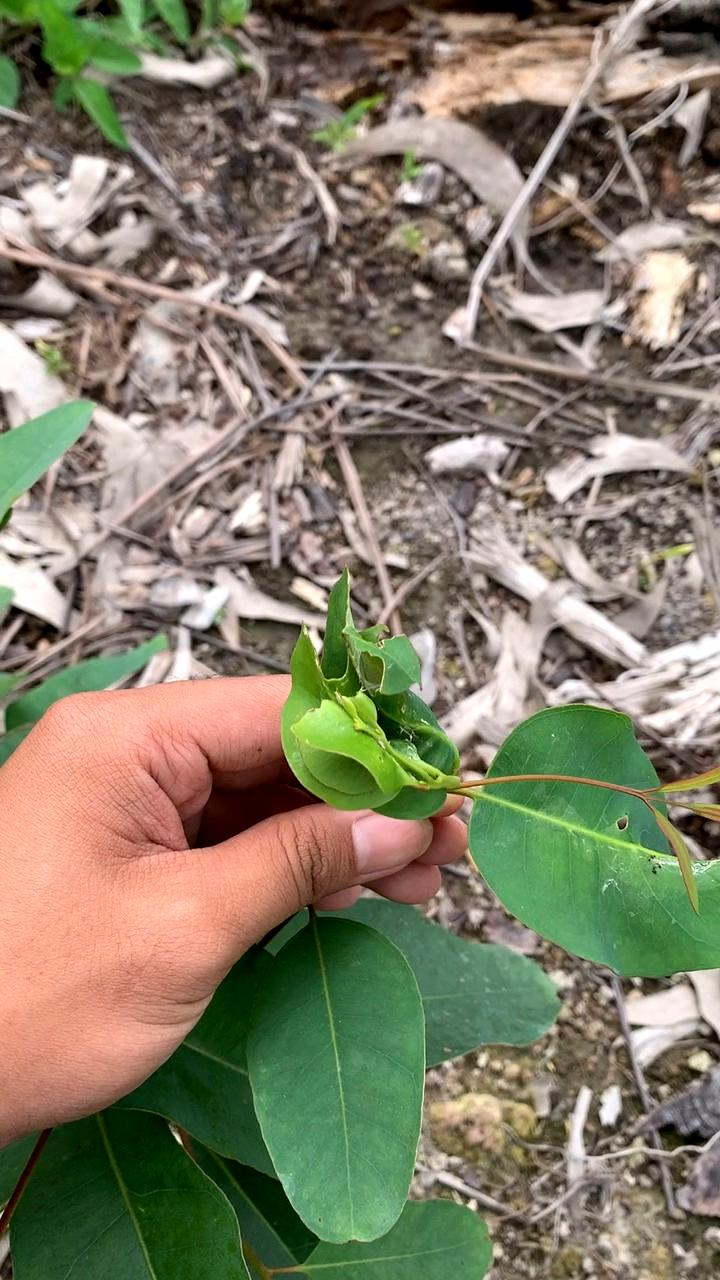Leaf Roller - Leaf: (288, 585, 457, 845)
